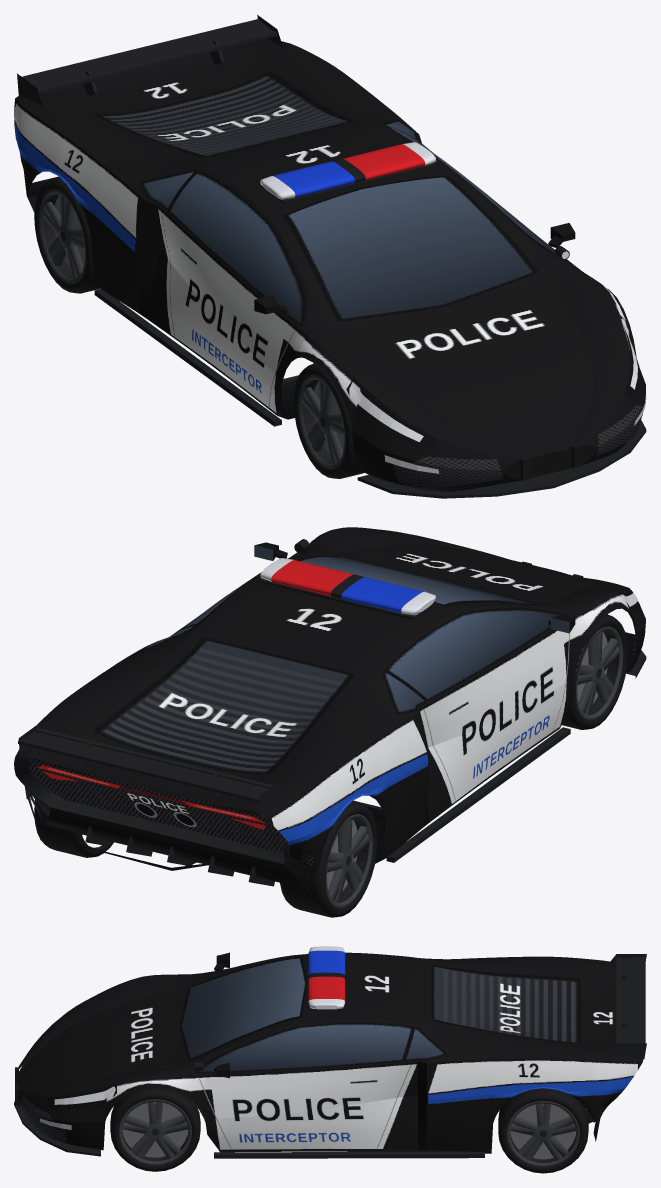
The model's file is police-interceptor-new.glb.
The picture shows the model from 3 angles, top to bottom: view 1: azimuth 30°, elevation 25°; view 2: azimuth 150°, elevation 25°; view 3: azimuth 270°, elevation 25°; orthographic projection. The views are drawn at different scales.
Visible parts, largest first — view 1: body, wheel_rr, wheel_fr; view 2: body, wheel_rr, wheel_fr, wheel_rl; view 3: body, wheel_rl, wheel_fl.
Boxes of the visible parts, <box> form: body: <box>14,15,646,498</box>; wheel_rr: <box>34,177,100,293</box>; wheel_fr: <box>293,363,363,478</box>; body: <box>14,527,646,898</box>; wheel_rr: <box>280,801,377,917</box>; wheel_fr: <box>561,614,627,729</box>; wheel_rl: <box>34,799,113,857</box>; body: <box>14,946,646,1158</box>; wheel_rl: <box>498,1088,588,1173</box>; wheel_fl: <box>110,1088,200,1171</box>.
Bounding box in the file's own units: 2.08 × 1.22 × 4.76.
Materials: 1 (1 with a texture image).
